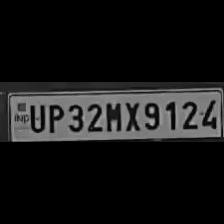1: (162, 98, 178, 130)
2: (84, 100, 104, 132), (178, 98, 198, 130)
3: (65, 100, 83, 132)
4: (198, 96, 218, 130)
9: (140, 98, 160, 130)
M: (102, 100, 122, 132)
P: (45, 101, 63, 133)
U: (26, 101, 44, 133)
X: (122, 98, 140, 132)
